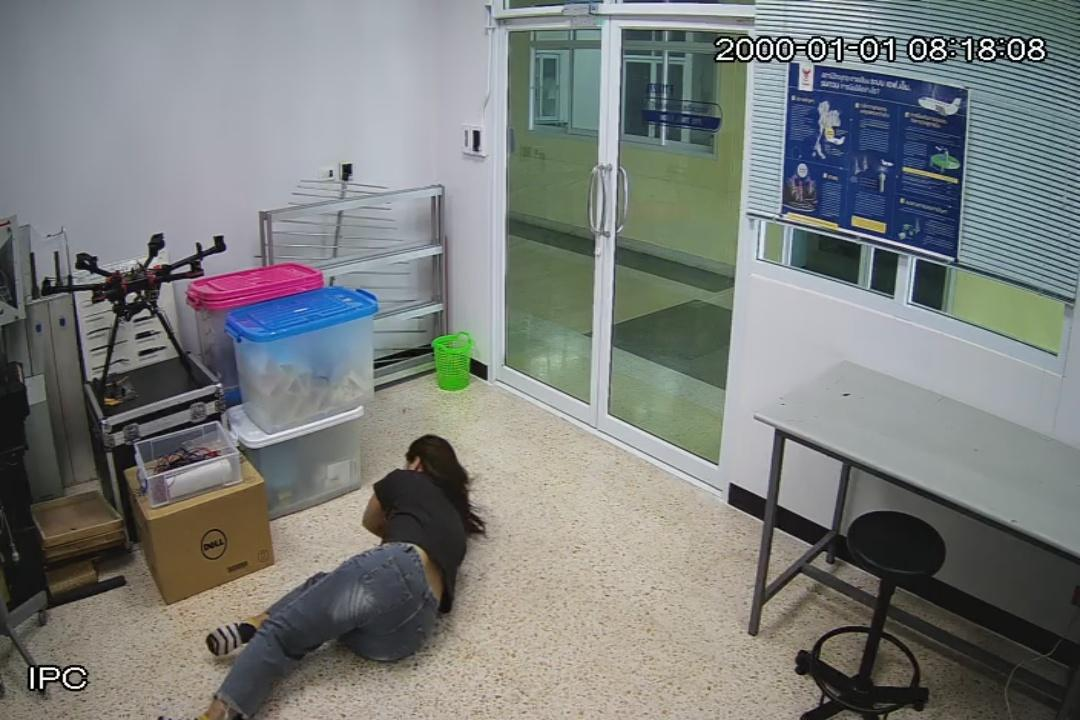fall: (177, 434, 517, 720)
